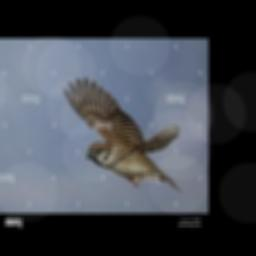Sparrow: (62, 77, 182, 193)
